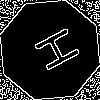H: (25, 25, 82, 78)
